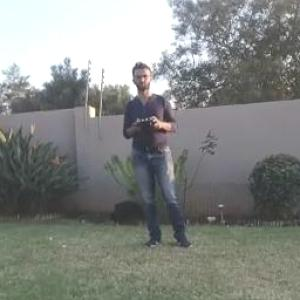follow: (122, 57, 203, 252)
